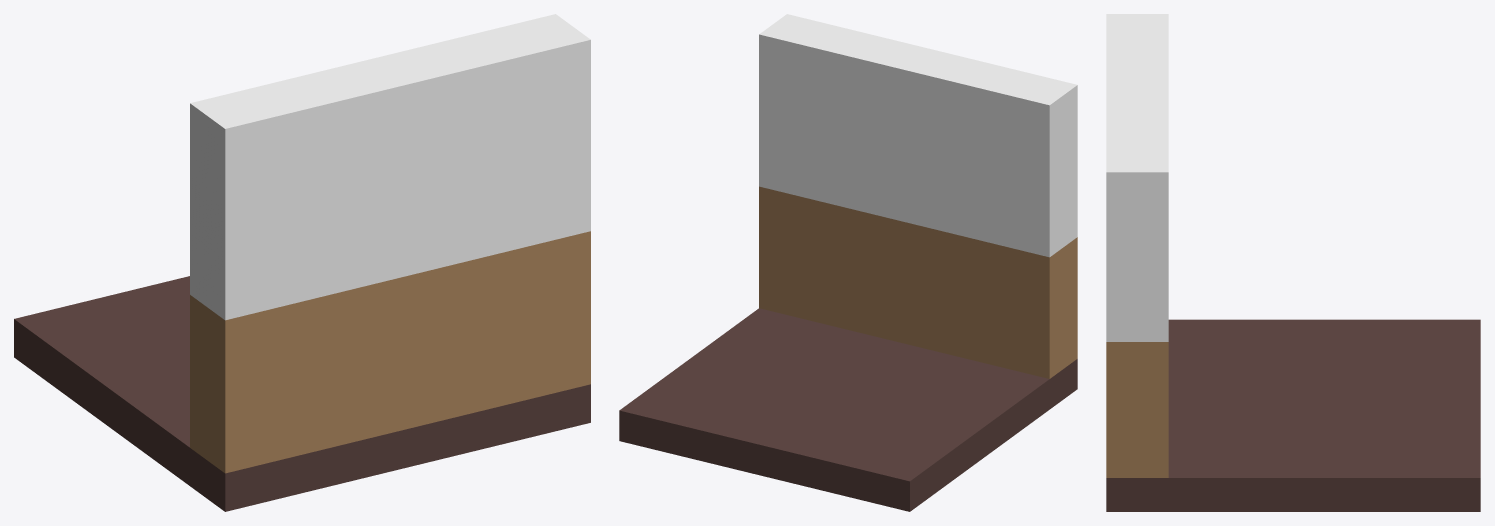
The model's file is wall.FBX.
3 views of the same model, side by side, from view 1: azimuth 30°, elevation 25°; view 2: azimuth 150°, elevation 25°; view 3: azimuth 270°, elevation 25° (orthographic). The views are drawn at different scales.
Visible parts, largest first — view 1: Object254; view 2: Object254; view 3: Object254.
Boxes of the visible parts, x1=… form: Object254: x1=14, y1=14, x2=590, y2=511; Object254: x1=619, y1=14, x2=1077, y2=511; Object254: x1=1106, y1=14, x2=1480, y2=511.
Bounding box in the file's own units: 100 × 100 × 100.
